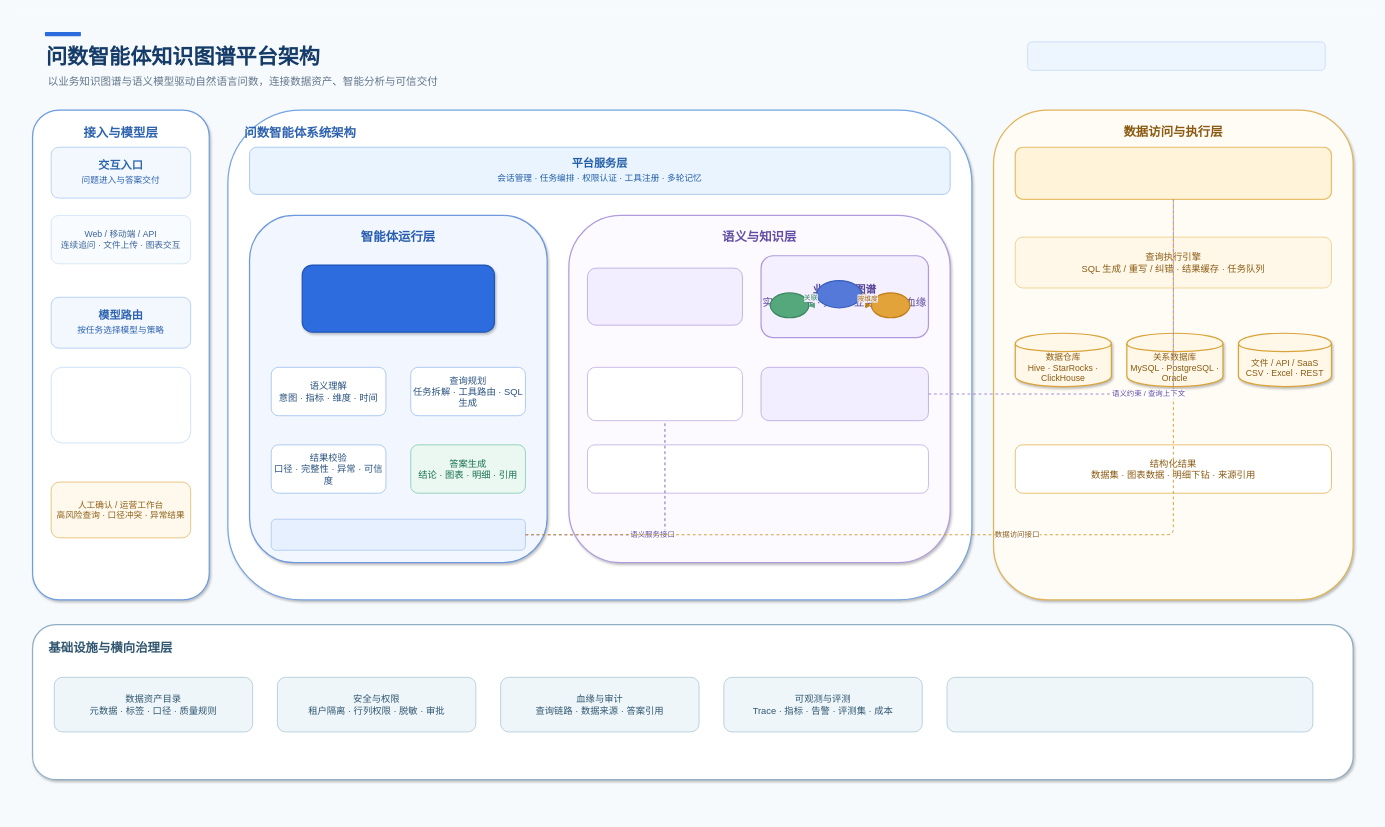
Image size: 1385x827. Some labels were removed from this diagram. The centre of each missing label's shape, as x and y in pixels:
MDL / 语义模型 指标定义 · 维度层级 · 计算公式 · 口径版本: (665,296)
区域: (890,305)
图谱检索 + 向量检索 同义词 · 相似问题 · 关系路径: (665,394)
客户: (789,305)
工具与接口：语义检索 · 图谱查询 · SQL 执行 · 图表分析 · 追问服务: (398,534)
指标: (839,294)
本地运行底座 Docker · Redis · MySQL · 向量库 · 图数据库: (1129,704)
查询网关 权限校验 · SQL 安全 · 资源路由 · 限流: (1173,173)
知识资产构建 元数据采集 · 实体识别 · 关系抽取 · 人工审核: (758,468)
知识驱动 · 受控查询 · 可解释答案: (1176,55)
统一语义上下文 实体 · 指标 · 关系 · 口径 · 权限 · 来源: (844,394)
通用大模型 OpenAI · Qwen · DeepSeek 本地模型 Ollama · vLLM: (121,405)
问数智能体 理解问题 · 规划任务 · 调用工具 · 校验结果: (398,299)
